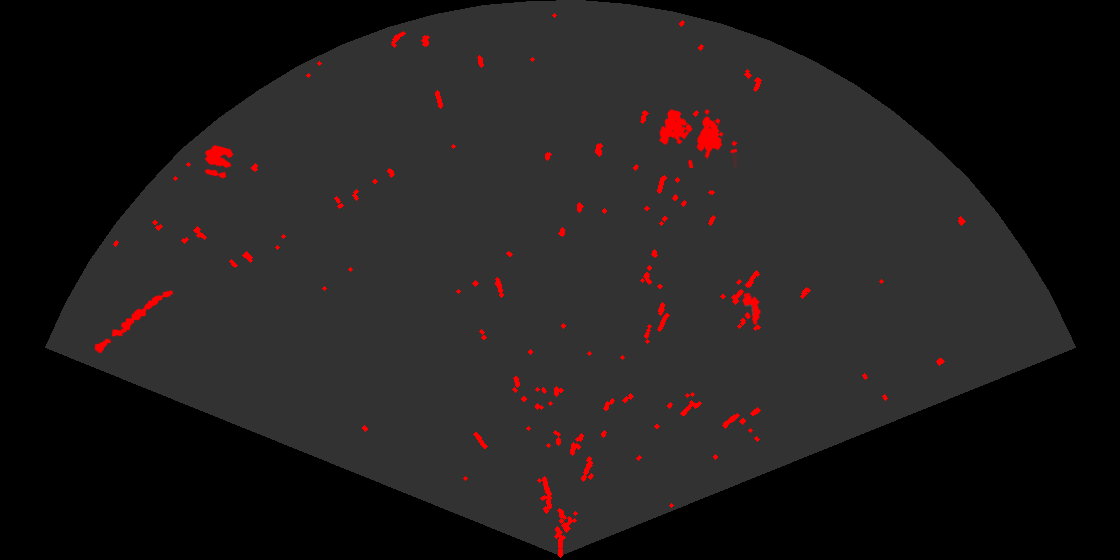AUV: (741, 291, 763, 327)
ball: (203, 144, 235, 180)
cage: (658, 108, 737, 168)
chain: (93, 289, 175, 355)
